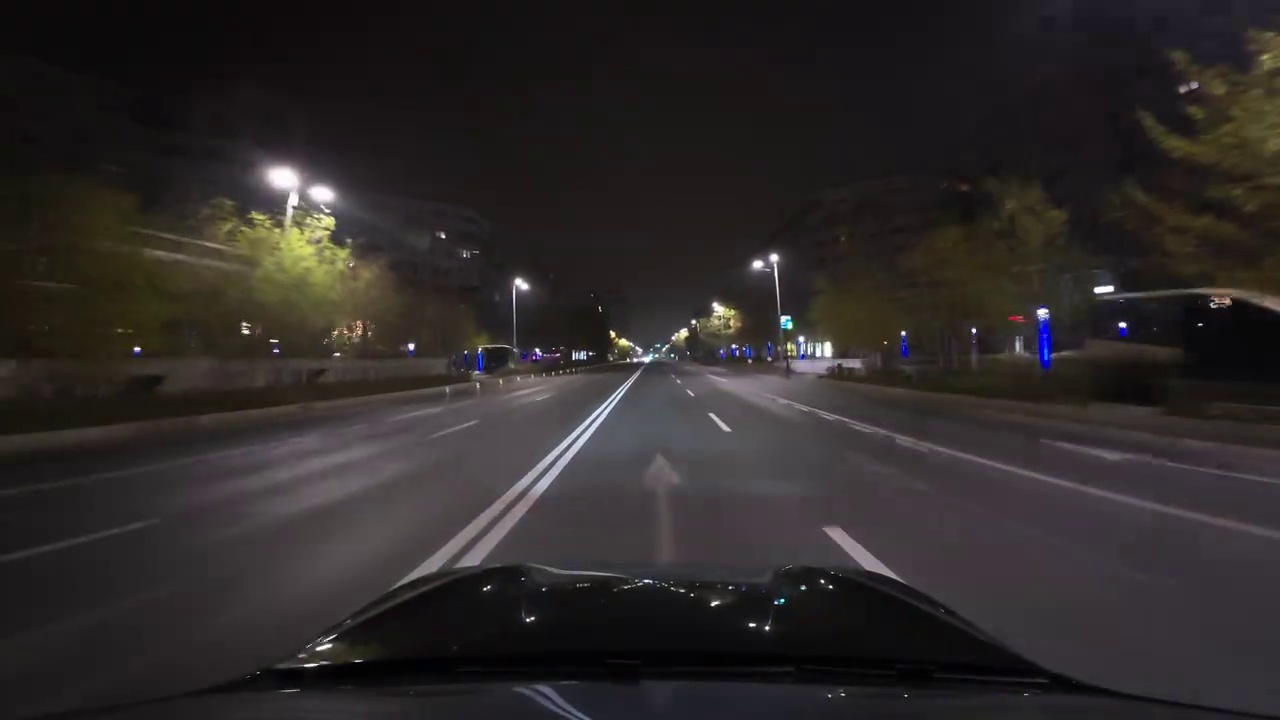acesa: (265, 164, 298, 190), (750, 251, 778, 278), (510, 274, 533, 297)
